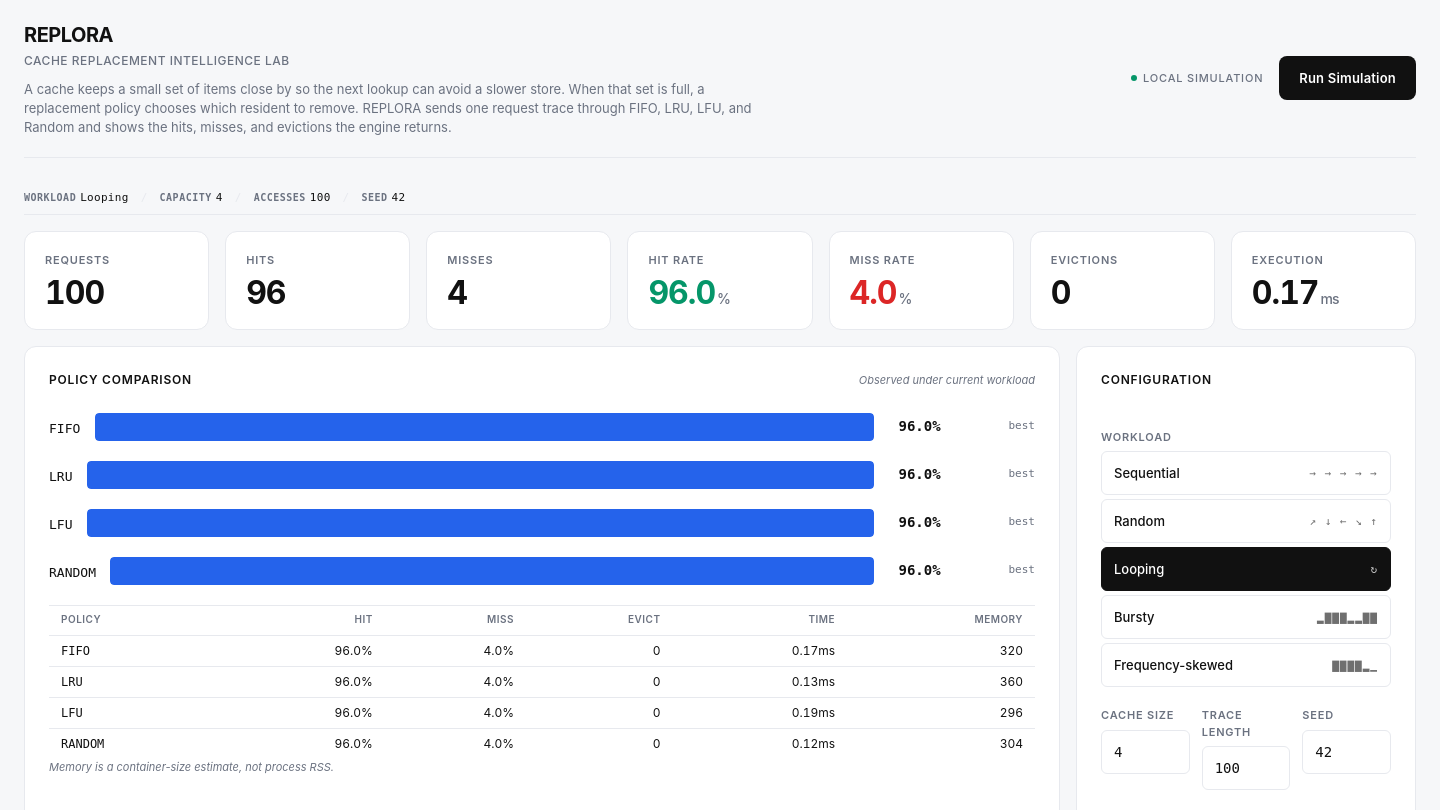
Test: renders the CLI fixture and keeps it until Run
Later steps or results of the test are not shown.
Check: the table with class "comparison-table" shows "320", box [1000, 642, 1023, 658]
Check: the text with class "snapshot-value" in the row of "42" reads "Looping", box [80, 190, 129, 204]
Step 1. Click the radio button labelled "Sequential → → → → →" → (1147, 473), box [1101, 451, 1391, 495]
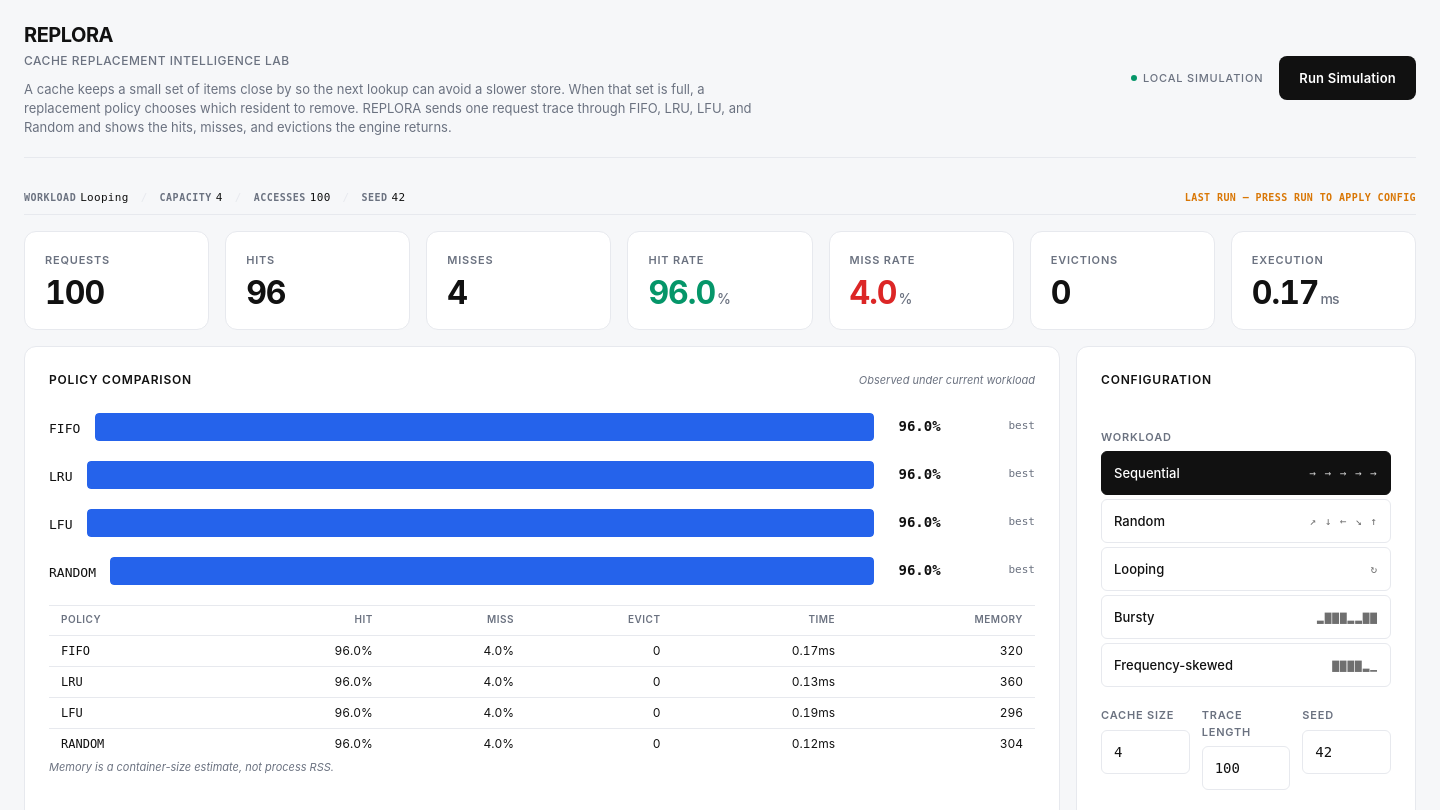
Check: the text with class "snapshot-value" in the row of "42" reads "Looping", box [80, 190, 129, 204]
Check: the text "Last run — press Run to apply config" is shown, box [1185, 190, 1416, 205]
